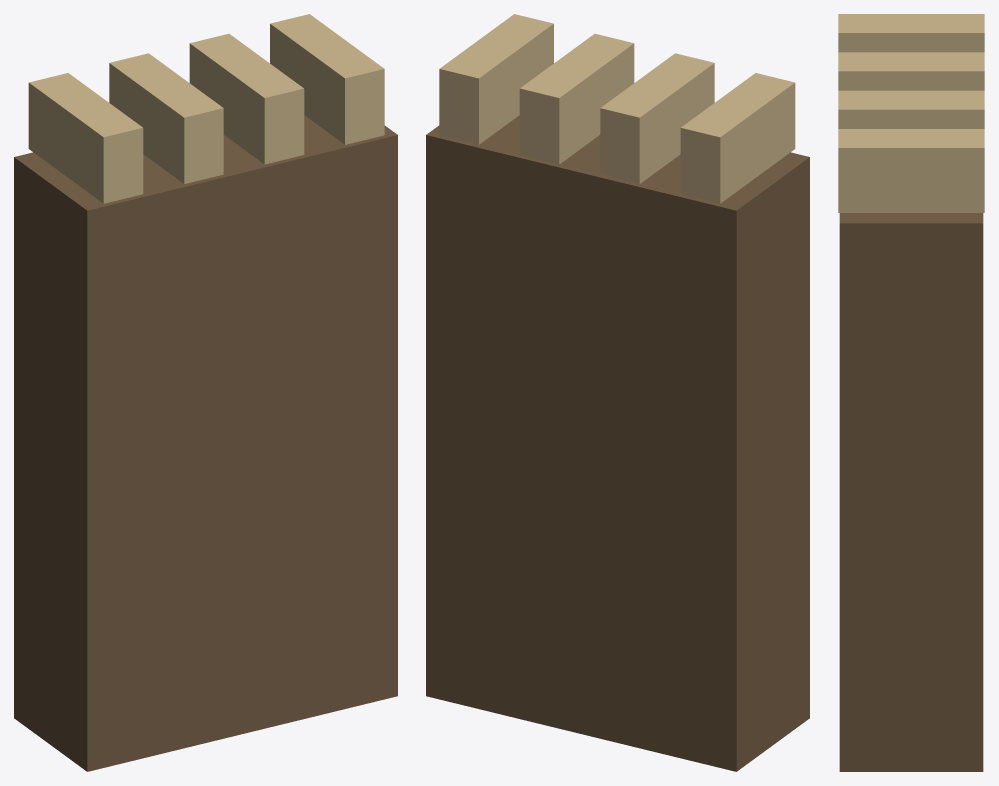
File: b-palisade-ayyubid.glb
3 renders of one model, left to right at view 1: azimuth 30°, elevation 25°; view 2: azimuth 150°, elevation 25°; view 3: azimuth 270°, elevation 25°, orthographic. The views are drawn at different scales.
Parts seen in each view (by area): view 1: Structure; view 2: Structure; view 3: Structure.
Part boxes in pixels (<box>): Structure: <box>14,14,397,771</box>; Structure: <box>426,14,809,771</box>; Structure: <box>838,14,984,771</box>.
Bounding box in the file's own units: 2.2 × 4.28 × 0.92.
